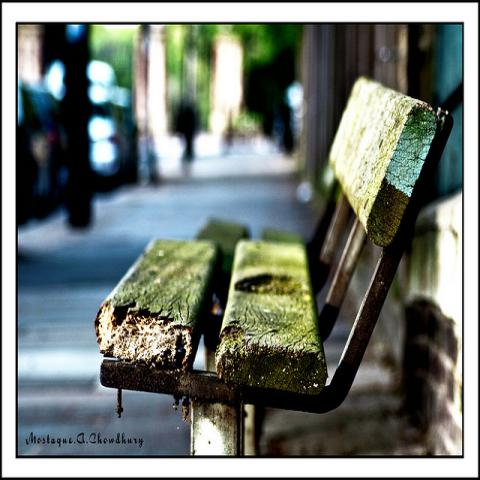car: (89, 82, 139, 188)
